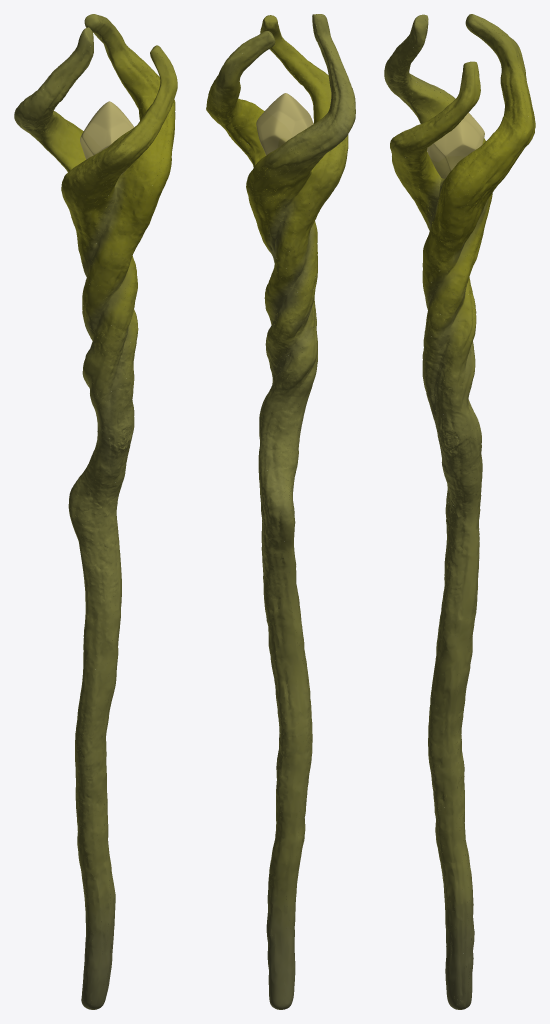
File: staff-transformed.glb
3 renders of one model, left to right at view 1: azimuth 30°, elevation 25°; view 2: azimuth 150°, elevation 25°; view 3: azimuth 330°, elevation 25°, orthographic.
Visible parts, largest first — view 1: Wizard_Staff3_Wizard_Staff3_0, Wizard_Staff2_Wizard_Staff2_0; view 2: Wizard_Staff3_Wizard_Staff3_0, Wizard_Staff2_Wizard_Staff2_0; view 3: Wizard_Staff3_Wizard_Staff3_0, Wizard_Staff2_Wizard_Staff2_0.
Part boxes in pixels (x1,y1,x2,y2): Wizard_Staff3_Wizard_Staff3_0: [14, 14, 177, 1009]; Wizard_Staff2_Wizard_Staff2_0: [80, 101, 134, 174]; Wizard_Staff3_Wizard_Staff3_0: [206, 14, 355, 1009]; Wizard_Staff2_Wizard_Staff2_0: [256, 93, 313, 184]; Wizard_Staff3_Wizard_Staff3_0: [384, 14, 535, 1009]; Wizard_Staff2_Wizard_Staff2_0: [427, 112, 484, 183].
Bounding box in the file's own units: 0.2482 × 1.59 × 0.2023.
